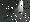person: (16, 3, 23, 16)
